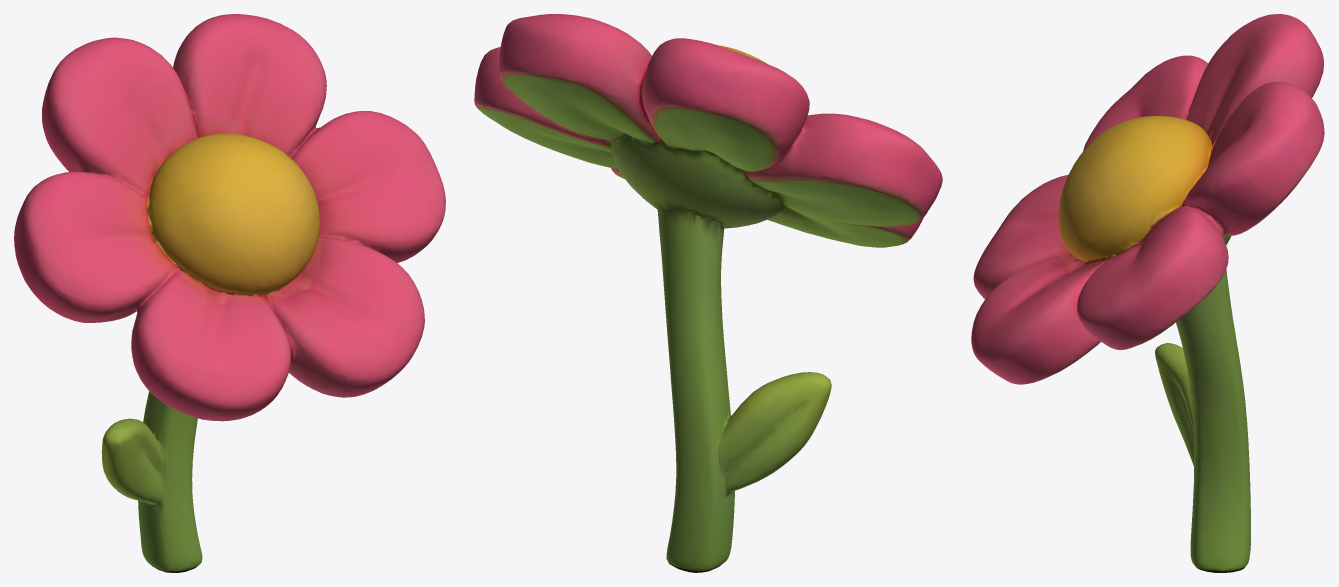
Rendered from tripo_convert_59347cee-8f3e-4dd3-8ae6-b36cce1cbde3.fbx.
3 renders of one model, left to right at view 1: azimuth 30°, elevation 25°; view 2: azimuth 150°, elevation 25°; view 3: azimuth 270°, elevation 25°, orthographic. The views are drawn at different scales.
Parts seen in each view (by area): view 1: tripo_node_59347cee; view 2: tripo_node_59347cee; view 3: tripo_node_59347cee.
Boxes of the visible parts, x1=… form: tripo_node_59347cee: x1=14, y1=14, x2=445, y2=572; tripo_node_59347cee: x1=474, y1=14, x2=942, y2=572; tripo_node_59347cee: x1=971, y1=14, x2=1324, y2=572.
Size of the model in its own units: 0.8349 by 1 by 0.6127.
Materials: 1 (1 with a texture image).
